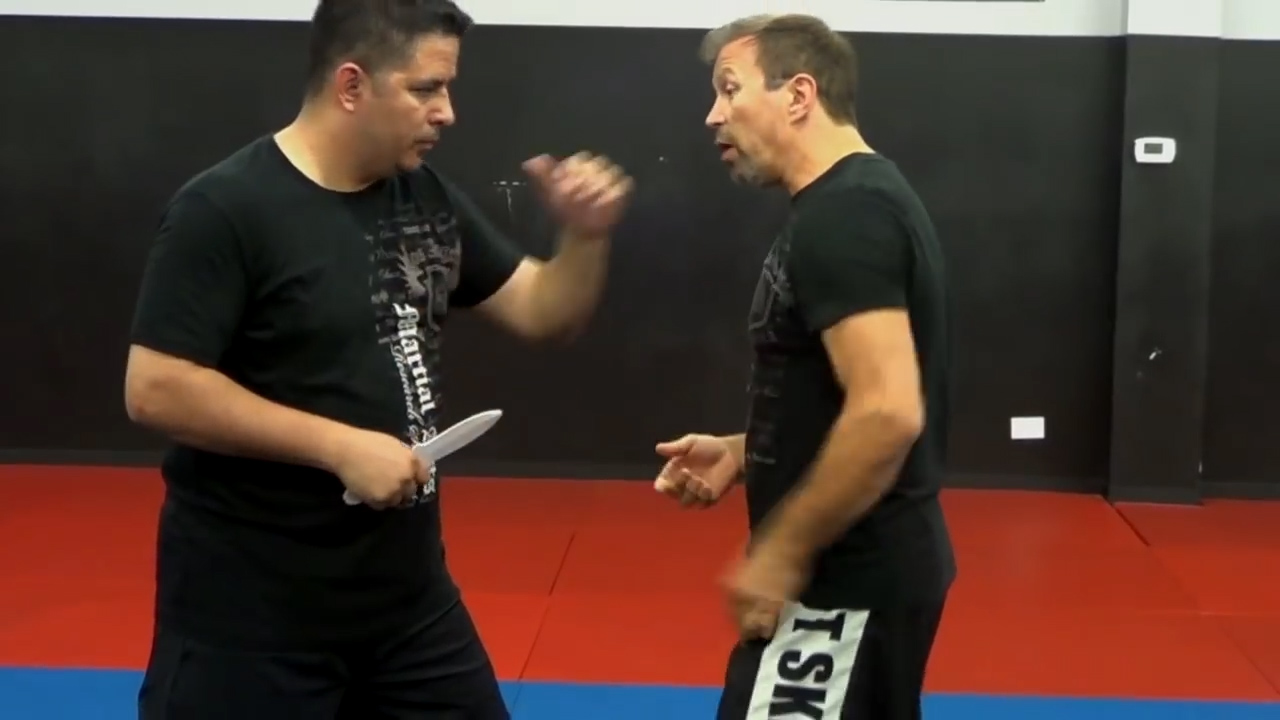knife: (339, 401, 508, 513)
